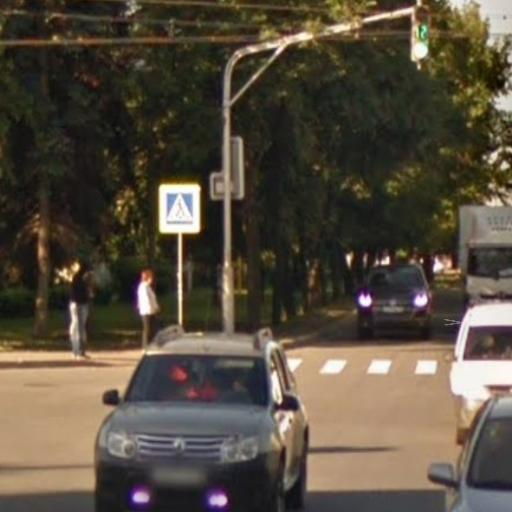traffic_sign: (157, 184, 203, 238)
